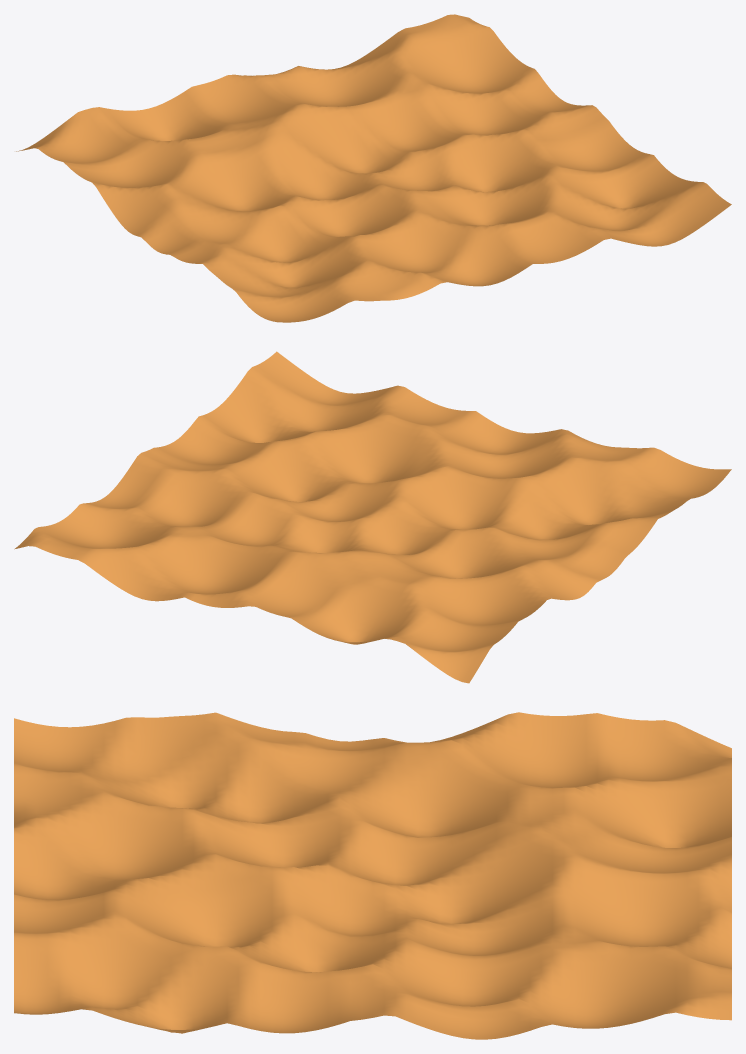
File: sand_terrain1.glb
3 views of the same model, one above another, from view 1: azimuth 30°, elevation 25°; view 2: azimuth 150°, elevation 25°; view 3: azimuth 270°, elevation 25° (orthographic). The views are drawn at different scales.
Visible parts, largest first — view 1: Plane; view 2: Plane; view 3: Plane.
Part boxes in pixels (<box>): Plane: <box>16,14,731,322</box>; Plane: <box>14,351,731,683</box>; Plane: <box>14,712,731,1039</box>.
Bounding box in the file's own units: 400 × 35.27 × 400.
